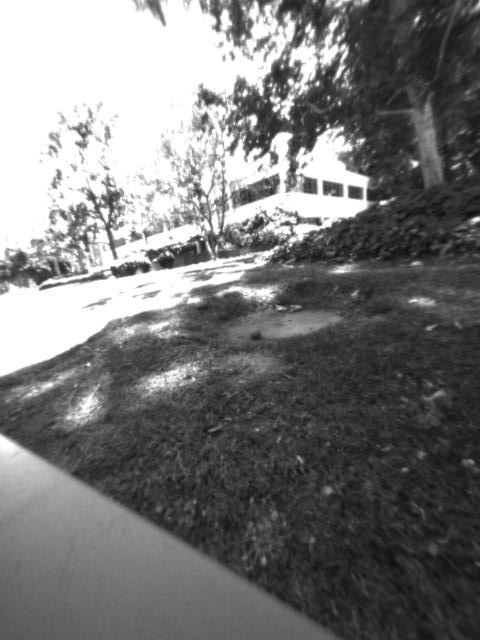dogtoy: (243, 322, 269, 346)
